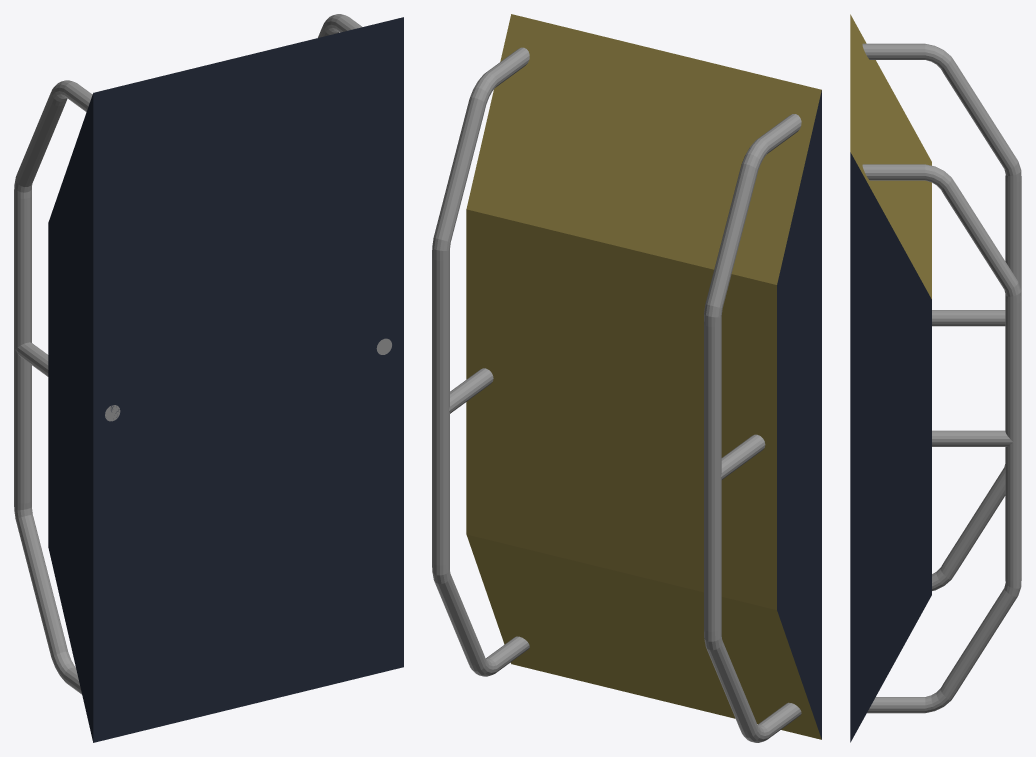
The model's file is Box W Rail Sides.fbx.
3 renders of one model, left to right at view 1: azimuth 30°, elevation 25°; view 2: azimuth 150°, elevation 25°; view 3: azimuth 270°, elevation 25°, orthographic. The views are drawn at different scales.
Visible parts, largest first — view 1: Box W Rail Sides; view 2: Box W Rail Sides; view 3: Box W Rail Sides.
Part boxes in pixels (left/top/right/bottom): Box W Rail Sides: left=14, top=14, right=403, bottom=742; Box W Rail Sides: left=432, top=14, right=821, bottom=742; Box W Rail Sides: left=850, top=14, right=1021, bottom=742.
Bounding box in the file's own units: 800 × 1600 × 420.
